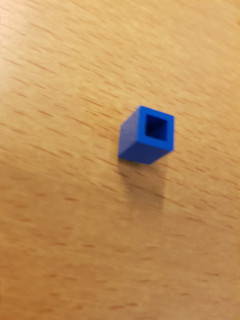1x1 blue: (115, 103, 177, 168)
